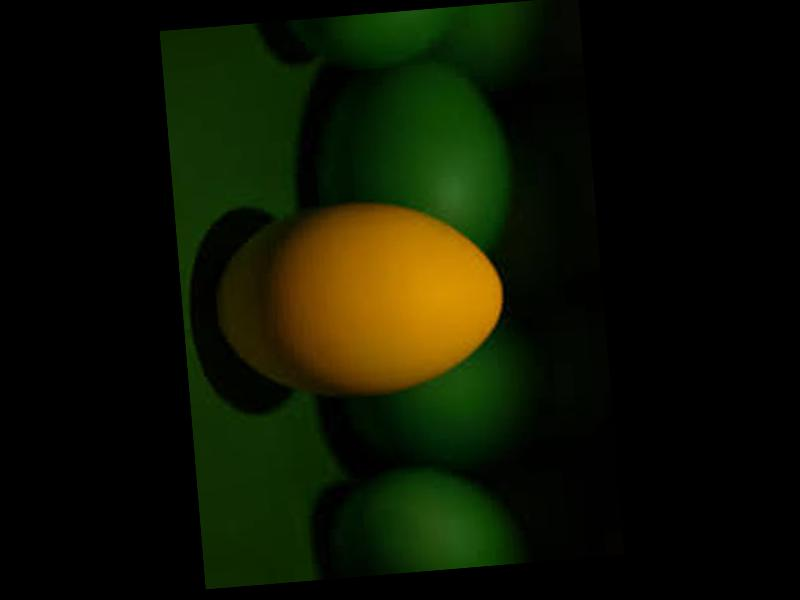Eggs: (209, 191, 508, 407)
